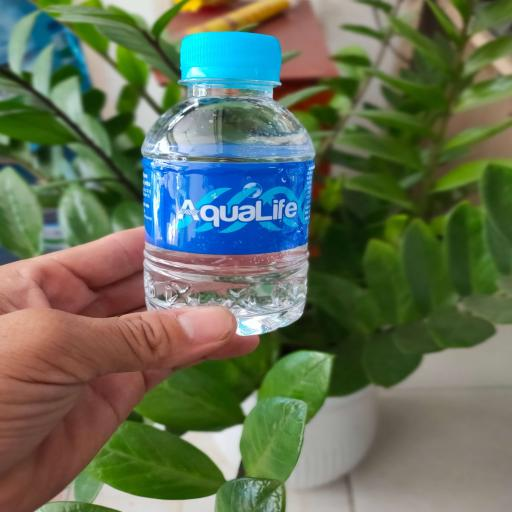bottle: (143, 32, 315, 338)
